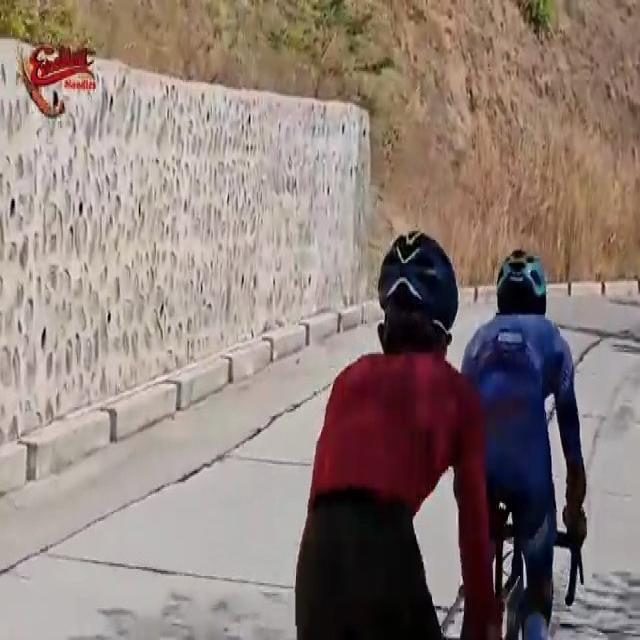bike: (462, 245, 594, 640)
